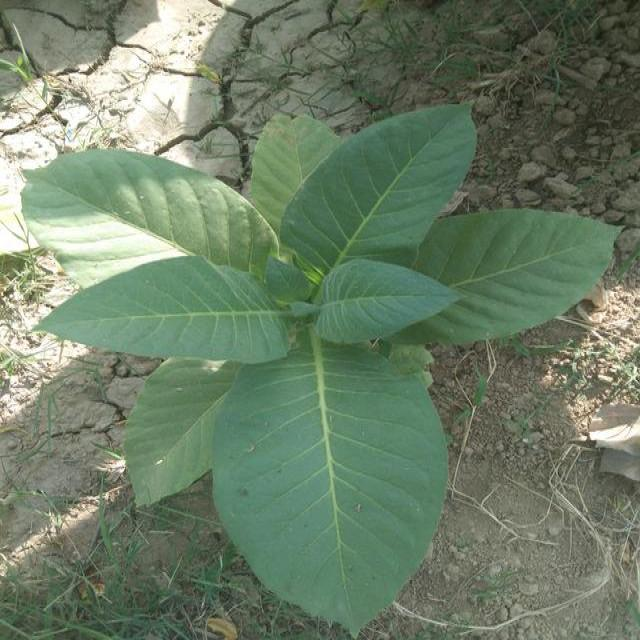crop: (18, 85, 626, 640)
